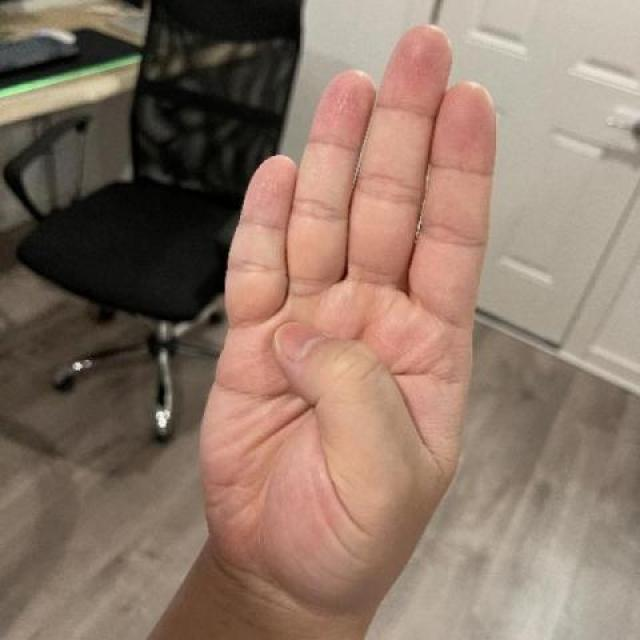Open Hand: (195, 17, 501, 610)
